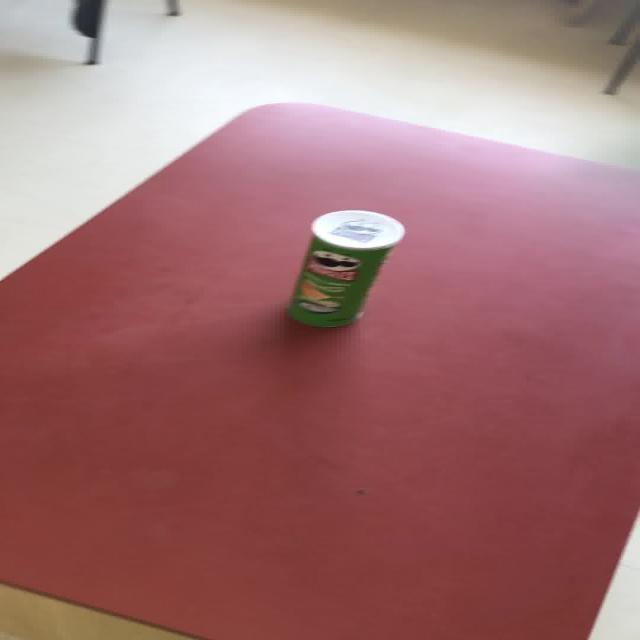pringles: (286, 208, 404, 328)
